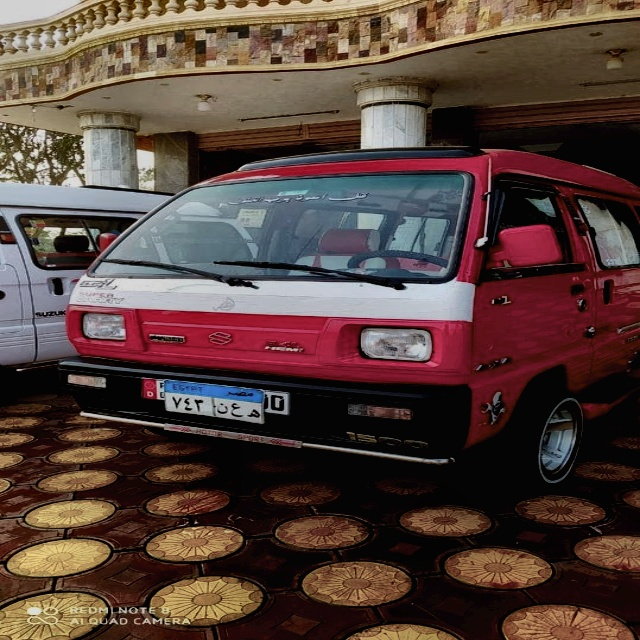License Plate: (163, 379, 265, 426)
